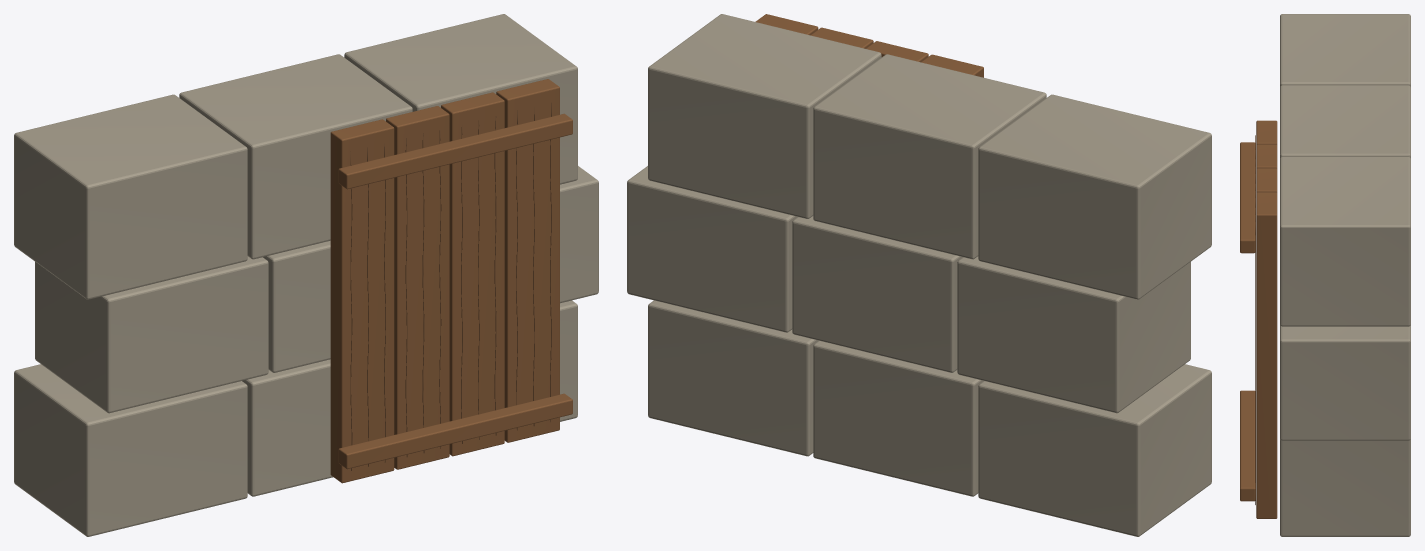
File: temple-masonry.glb
3 views of the same model, side by side, from view 1: azimuth 30°, elevation 25°; view 2: azimuth 150°, elevation 25°; view 3: azimuth 270°, elevation 25° (orthographic). The views are drawn at different scales.
Parts seen in each view (by area): view 1: temple-masonry-dressed-limestone, temple-masonry-cedar-facing, temple-masonry-acacia-grain; view 2: temple-masonry-dressed-limestone, temple-masonry-cedar-facing; view 3: temple-masonry-dressed-limestone, temple-masonry-cedar-facing, temple-masonry-acacia-grain.
Boxes of the visible parts, bbox=[...] form: temple-masonry-dressed-limestone: bbox=[14, 14, 598, 536]; temple-masonry-cedar-facing: bbox=[330, 79, 572, 483]; temple-masonry-acacia-grain: bbox=[350, 102, 551, 470]; temple-masonry-dressed-limestone: bbox=[627, 14, 1211, 536]; temple-masonry-cedar-facing: bbox=[755, 14, 983, 77]; temple-masonry-dressed-limestone: bbox=[1280, 14, 1410, 536]; temple-masonry-cedar-facing: bbox=[1240, 120, 1277, 518]; temple-masonry-acacia-grain: bbox=[1255, 135, 1255, 504].
Size of the model in its own units: 0.882 by 0.578 by 0.287.
